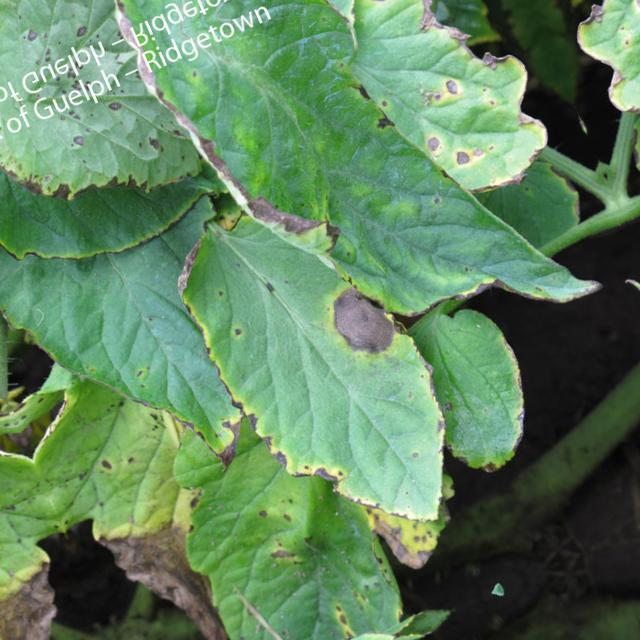Tomato Early blight leaf: (124, 0, 617, 418), (155, 161, 489, 563), (156, 394, 439, 640)
